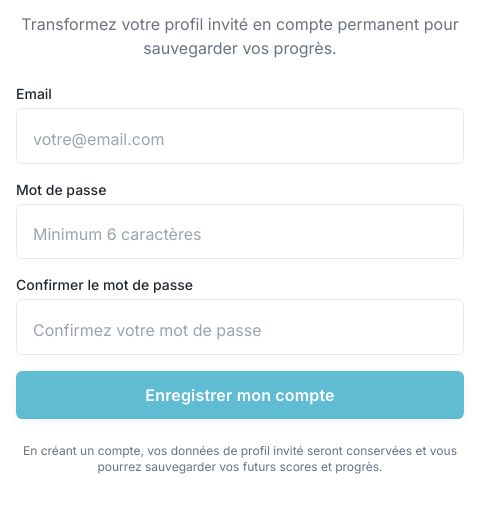
Test: Form and Validation Rigor › GuestUpgradeForm Component › should validate password confirmation matching
Type "test@example.com" into the field labelled "Email" at coordinates (240, 136), box [16, 108, 464, 164]
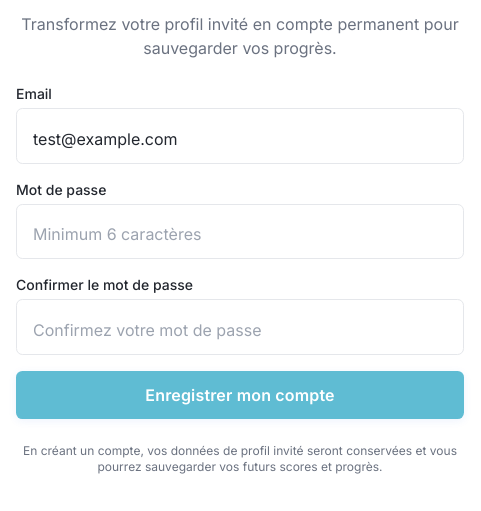
Type "password123" into the password field labelled "Mot de passe" at coordinates (240, 231), box [16, 204, 464, 259]
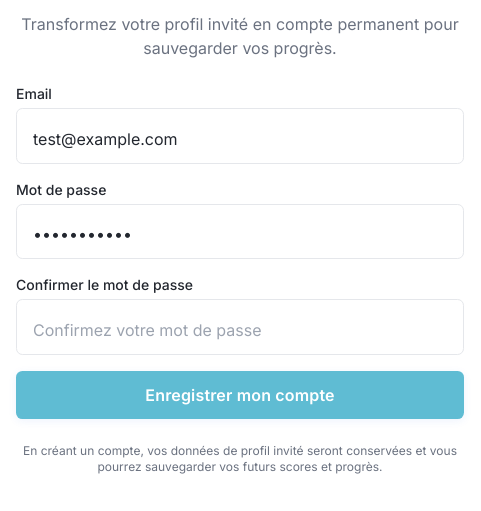
Type "differentpassword" into the password field labelled "Confirmer le mot de passe" at coordinates (240, 327), box [16, 299, 464, 355]
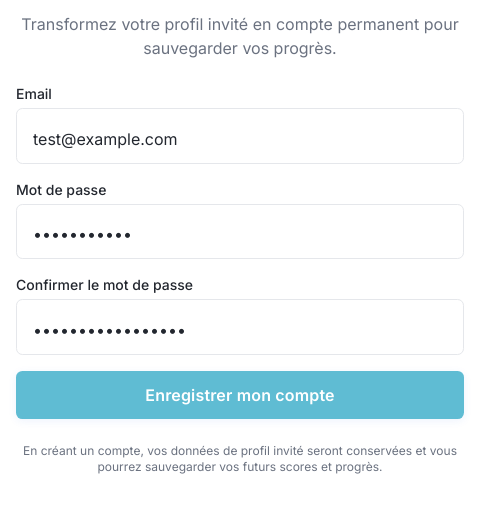
Click the button "Enregistrer mon compte" at coordinates (240, 395), box [16, 371, 464, 419]
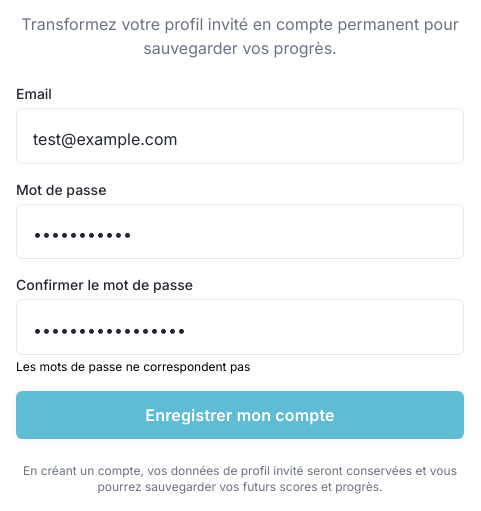
Check: the text "Les mots de passe ne correspondent pas" is shown, box [16, 359, 250, 374]
